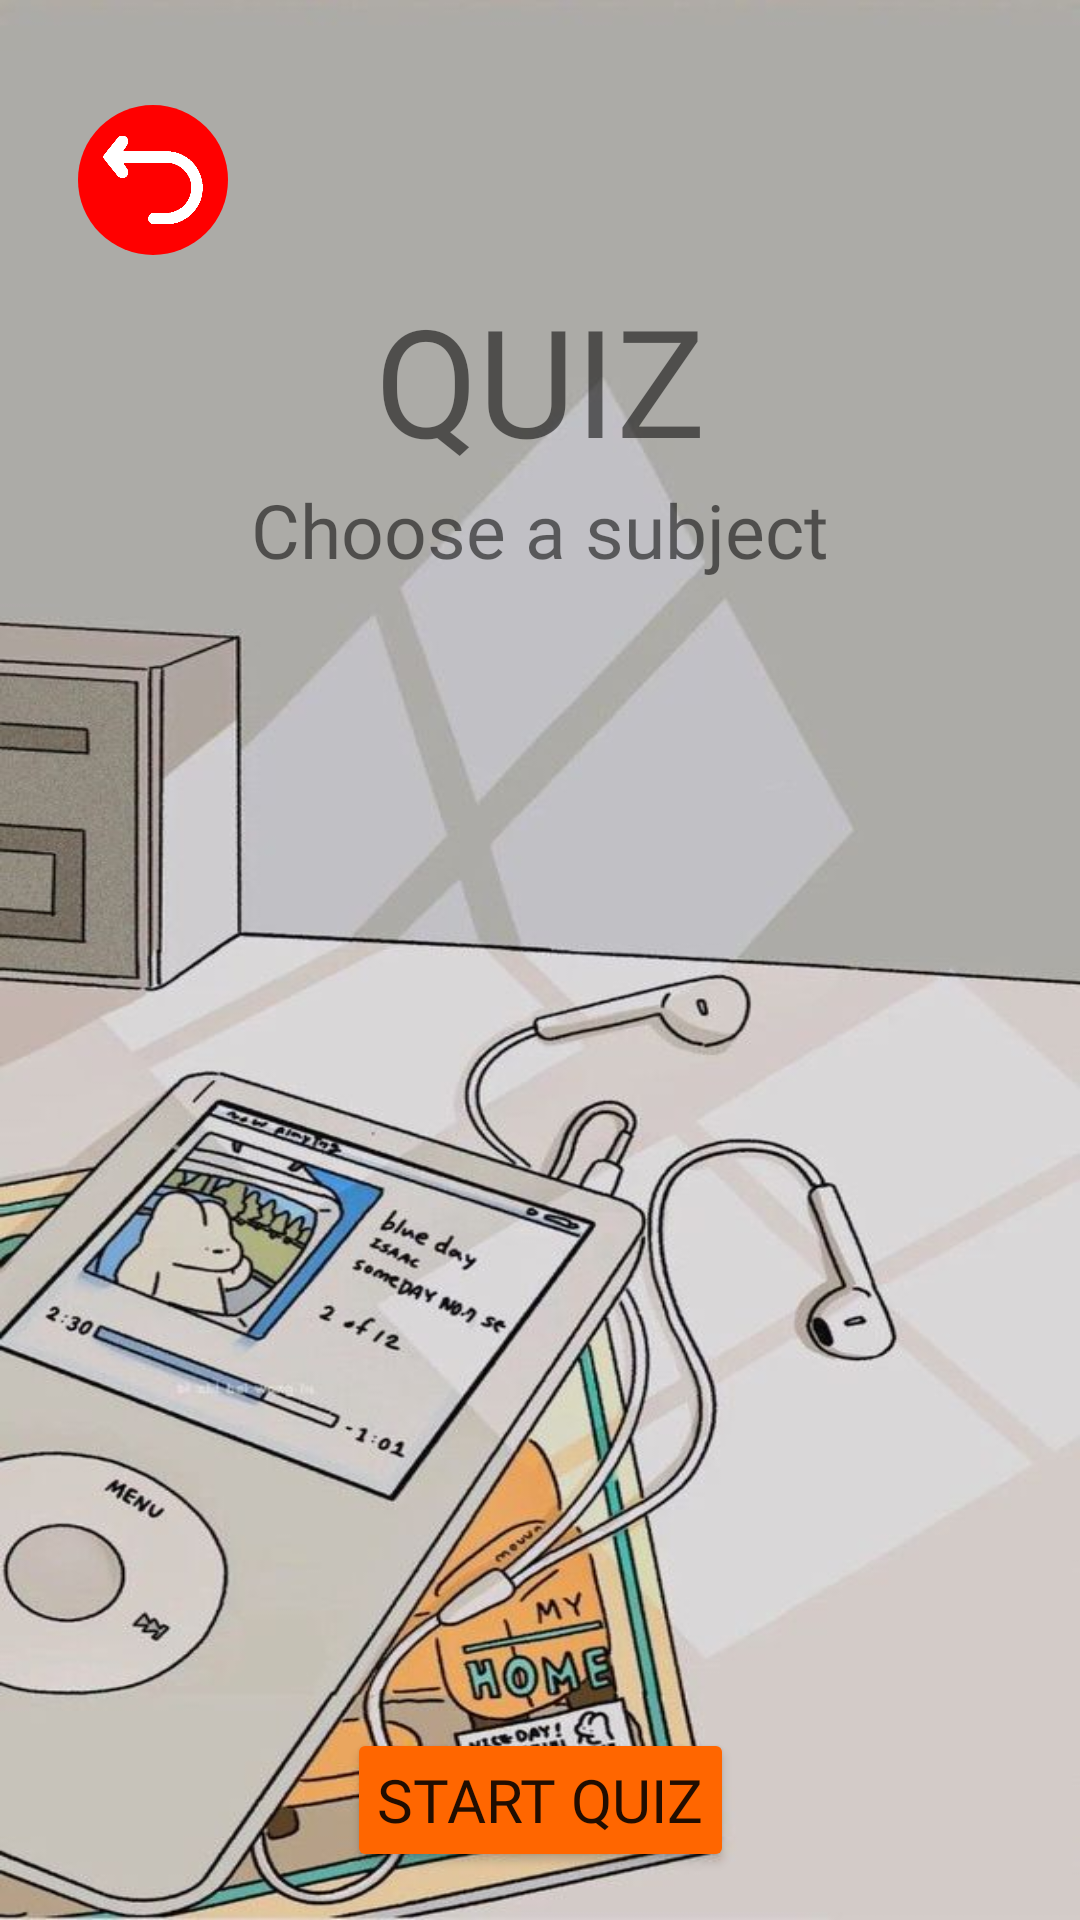

Named icons in this screenshot (1080px×1920px) and their centers, (x=x, y=y):
back: (x=153, y=180)
